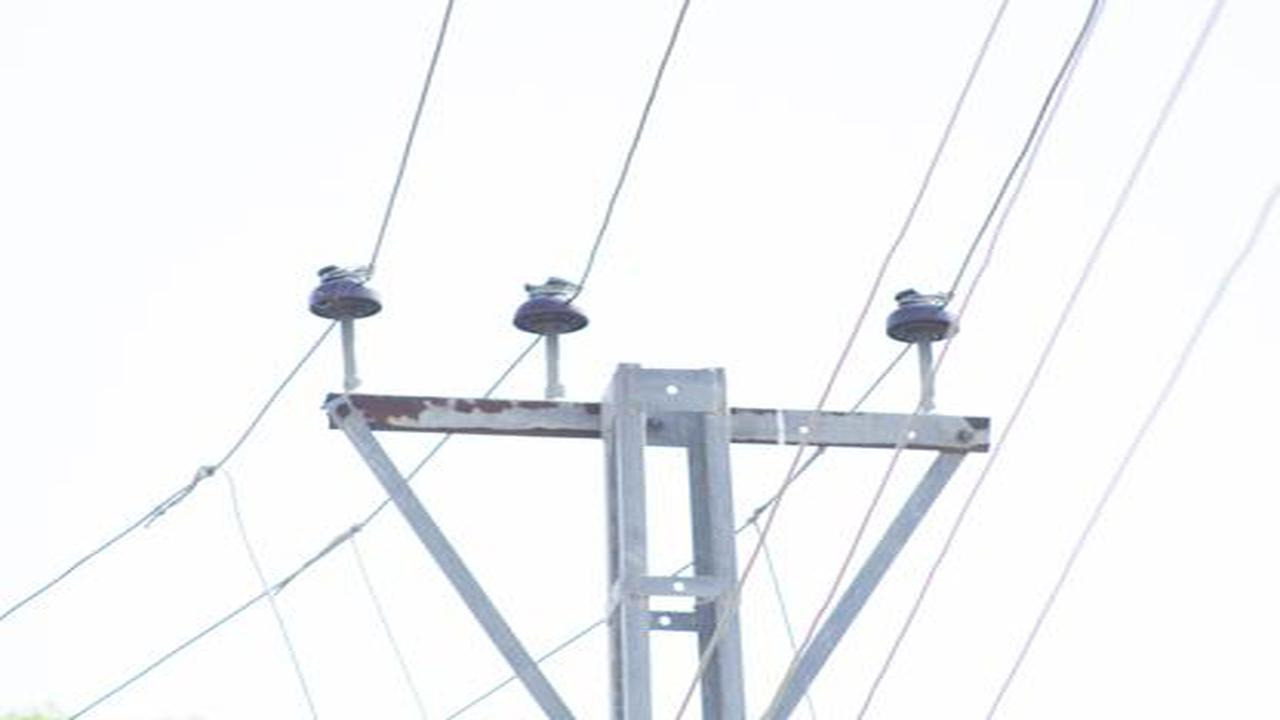insulator_pin: (506, 272, 594, 340), (305, 261, 388, 323), (879, 286, 966, 345)
